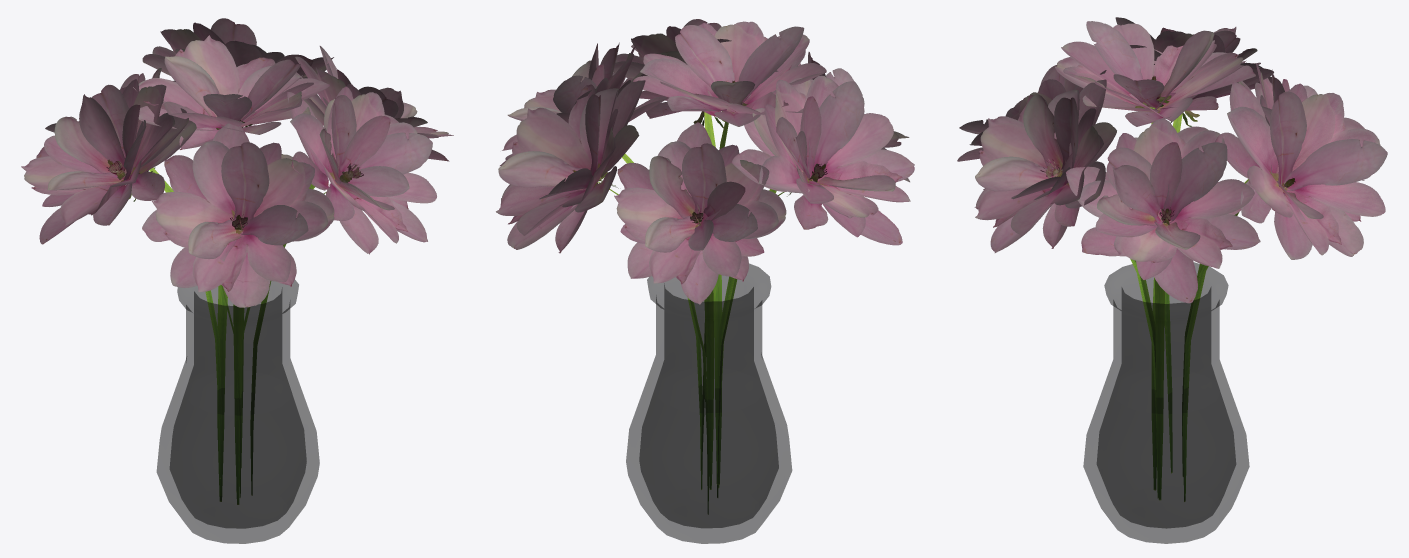
3 renders of one model, left to right at view 1: azimuth 30°, elevation 25°; view 2: azimuth 150°, elevation 25°; view 3: azimuth 270°, elevation 25°, orthographic.
Parts seen in each view (by area): view 1: flowers_magnolia_003; view 2: flowers_magnolia_003; view 3: flowers_magnolia_003.
Boxes of the visible parts, x1=… form: flowers_magnolia_003: x1=21, y1=18, x2=453, y2=543; flowers_magnolia_003: x1=496, y1=19, x2=914, y2=543; flowers_magnolia_003: x1=957, y1=17, x2=1387, y2=543.
Size of the model in its own units: 533 by 595 by 506.
4 materials, 2 textured.
